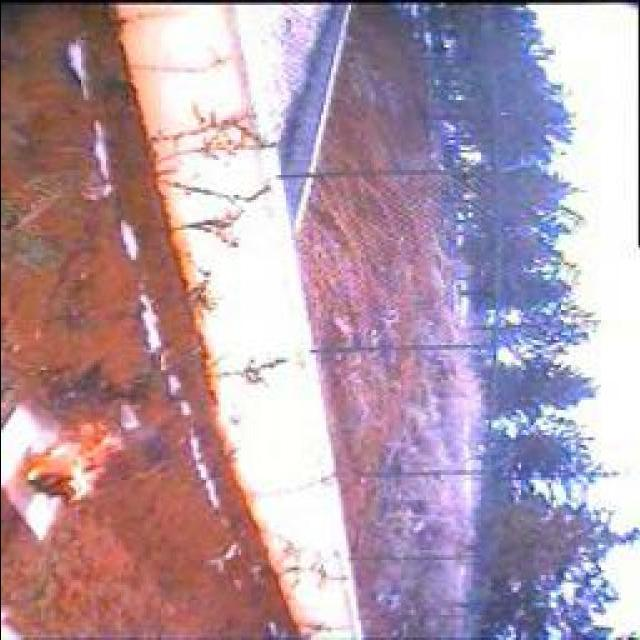Fire: (16, 416, 132, 507)
